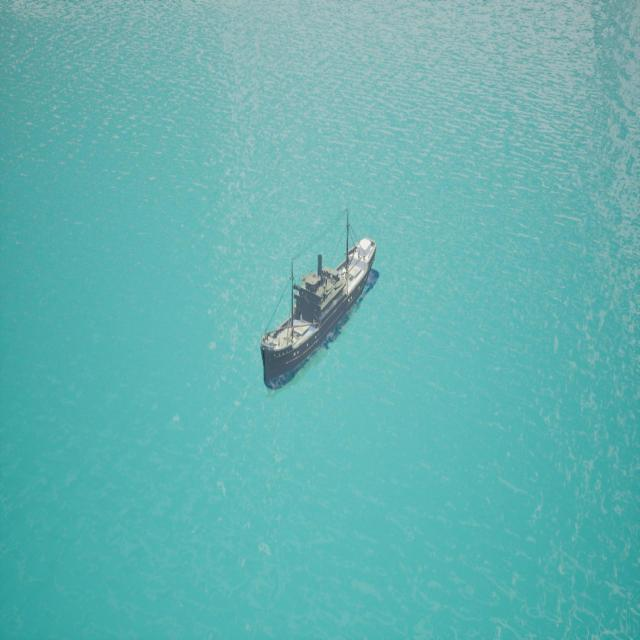fishing ship: (261, 239, 382, 392)
